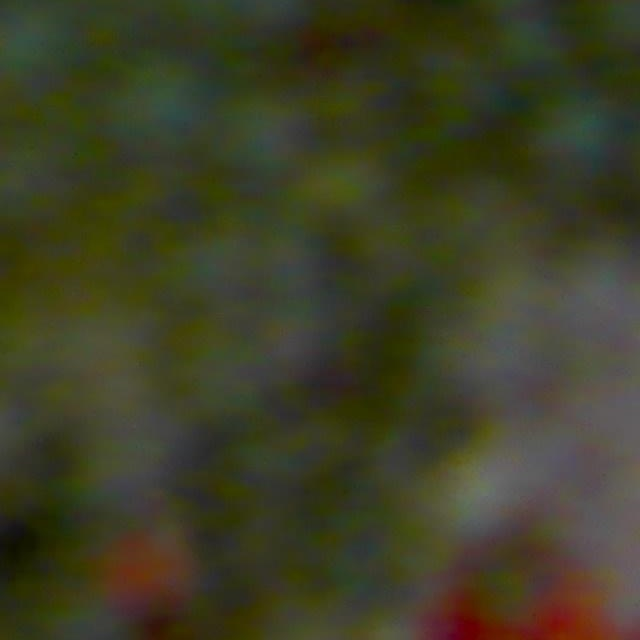SeaGrape: (534, 88, 629, 176), (478, 561, 540, 625)
